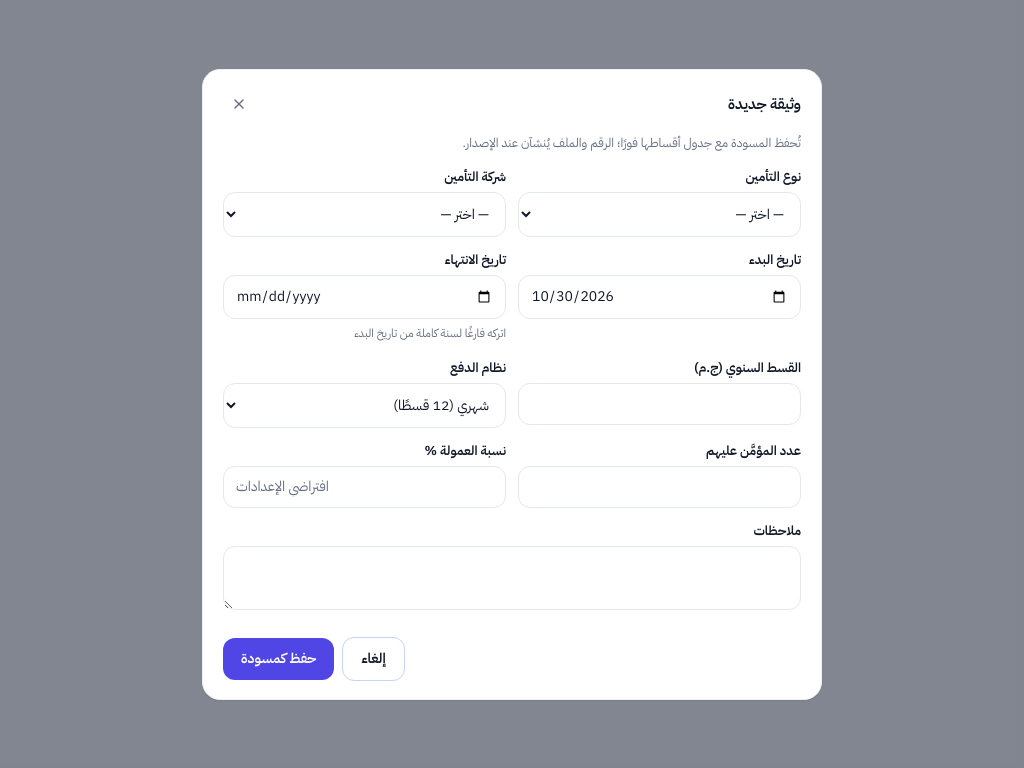
Test case: new policy dialog › renders a 422 next to the field it names instead of a vague toast
In the field labelled "القسط السنوي (ج.م)": point(660, 404) [518,382,801,424], type "0"
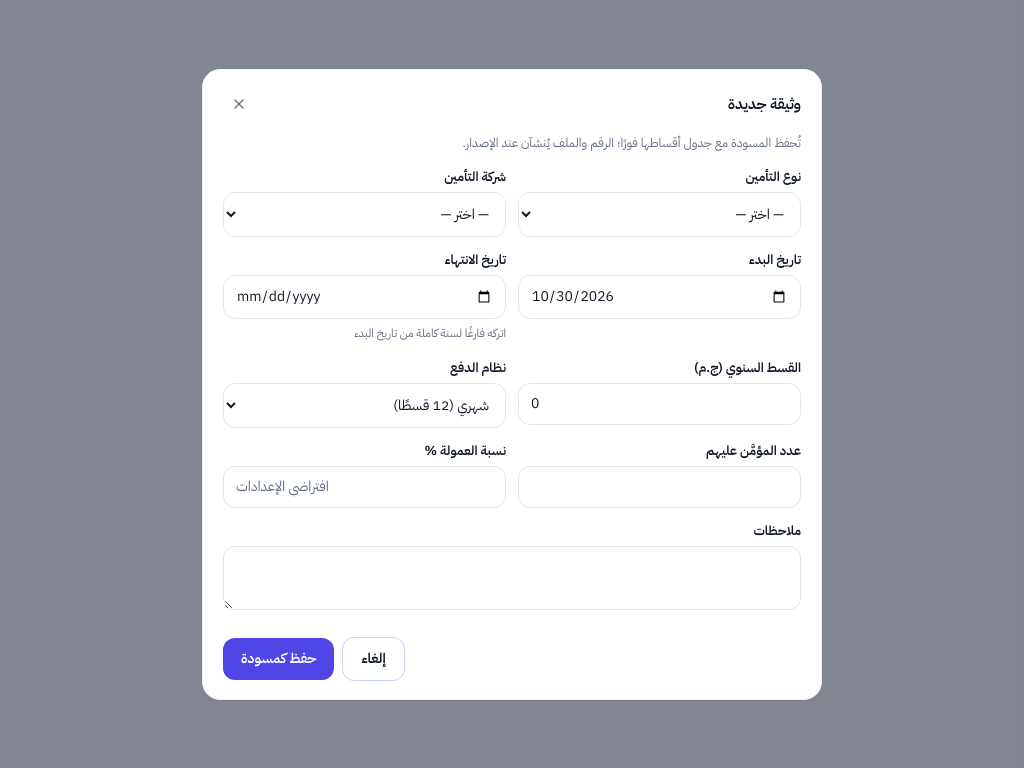
In the date field labelled "تاريخ البدء": point(660, 296) [518,274,801,318], type "2026-11-01"
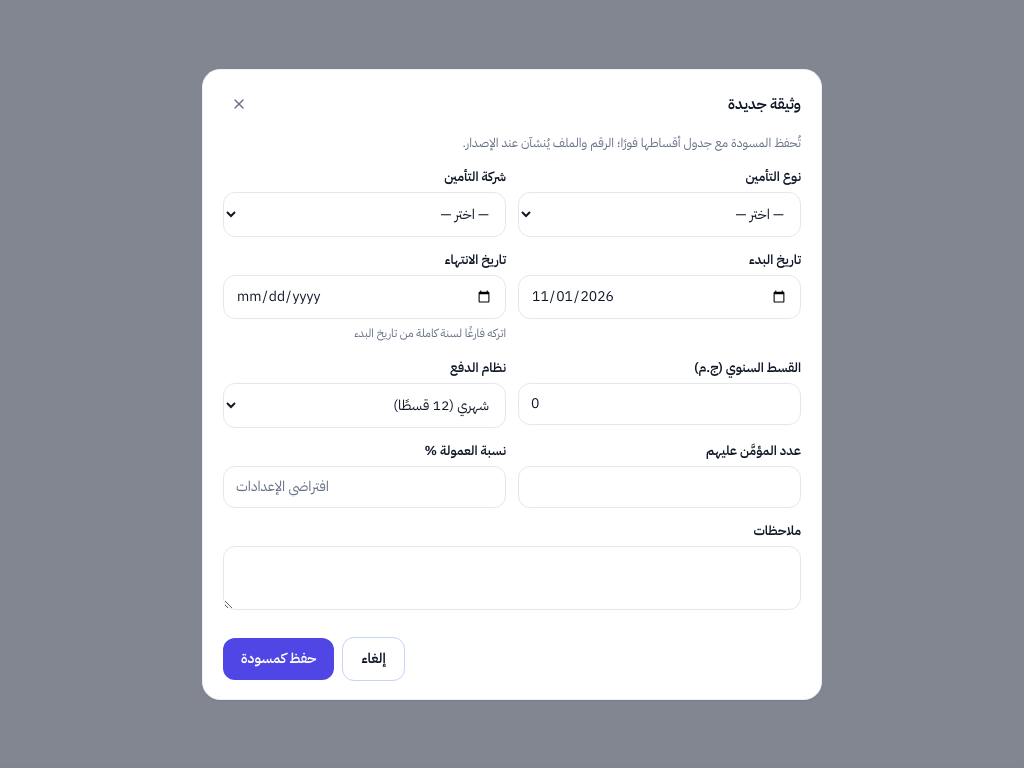
Expected: the button "حفظ كمسودة" is disabled, [223,638,334,680]
Replace the text in the field labelled "القسط السنوي (ج.م)" with "12000": point(660, 404) [518,382,801,424]
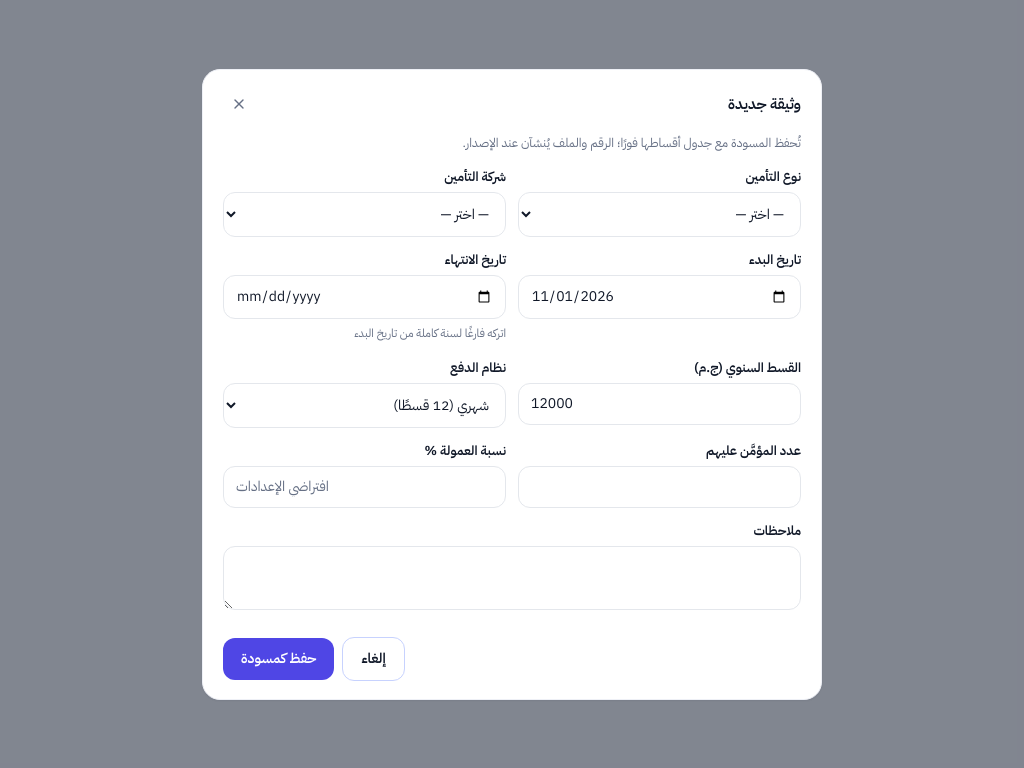
Click the button "حفظ كمسودة": point(279, 658) [223,638,334,680]
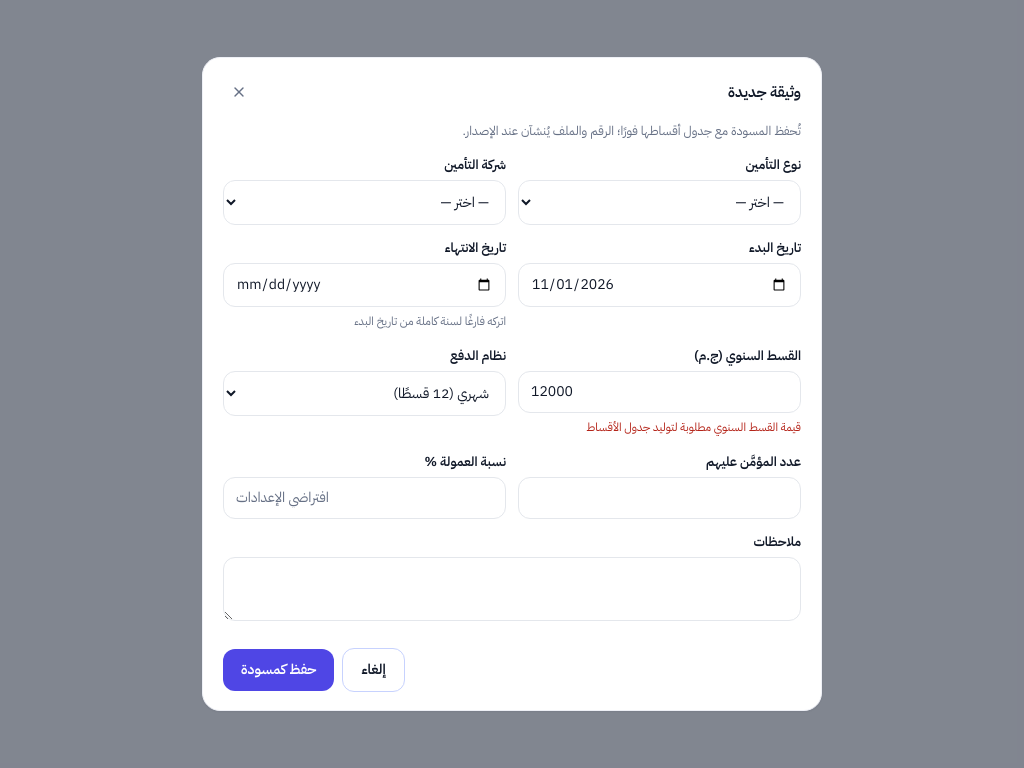
Expected: the text "قيمة القسط السنوي مطلوبة لتوليد جدول الأقساط" is shown, [586,419,801,436]
